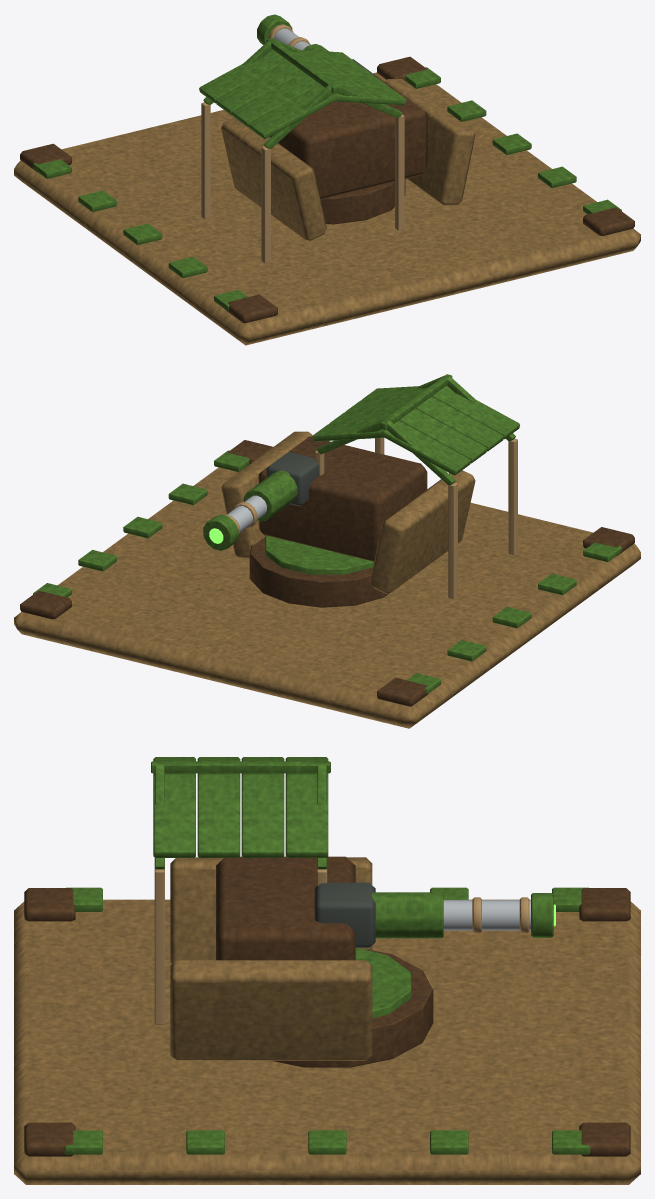
Rendered from vael_poste_d_embuscade.gltf.
The picture shows the model from 3 angles, top to bottom: view 1: azimuth 30°, elevation 25°; view 2: azimuth 150°, elevation 25°; view 3: azimuth 270°, elevation 25°; orthographic projection. The views are drawn at different scales.
Parts seen in each view (by area): view 1: Root.005_Geometry, TurretYaw_Geometry, GunRecoil_Geometry; view 2: Root.005_Geometry, TurretYaw_Geometry, GunRecoil_Geometry, GunPitch_Geometry; view 3: Root.005_Geometry, TurretYaw_Geometry, GunRecoil_Geometry, GunPitch_Geometry.
Boxes of the visible parts, x1=… form: Root.005_Geometry: x1=14, y1=38, x2=640, y2=345; TurretYaw_Geometry: x1=270, y1=76, x2=427, y2=199; GunRecoil_Geometry: x1=257, y1=14, x2=328, y2=51; Root.005_Geometry: x1=14, y1=374, x2=640, y2=728; TurretYaw_Geometry: x1=258, y1=436, x2=427, y2=561; GunRecoil_Geometry: x1=203, y1=470, x2=297, y2=550; GunPitch_Geometry: x1=266, y1=452, x2=319, y2=506; Root.005_Geometry: x1=14, y1=757, x2=640, y2=1184; TurretYaw_Geometry: x1=216, y1=856, x2=355, y2=960; GunRecoil_Geometry: x1=372, y1=892, x2=555, y2=938; GunPitch_Geometry: x1=314, y1=882, x2=375, y2=947.
Bounding box in the file's own units: 3.91 × 1.77 × 3.91.
Materials: 7 (3 with a texture image).
